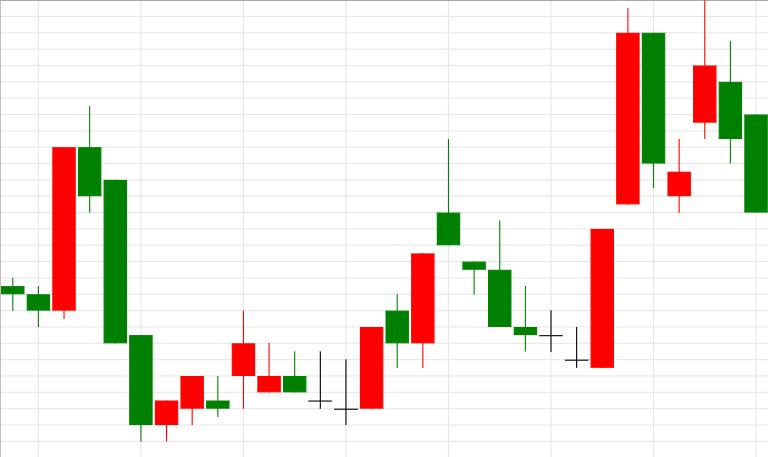shooting_star_fall: (334, 139, 460, 425)
